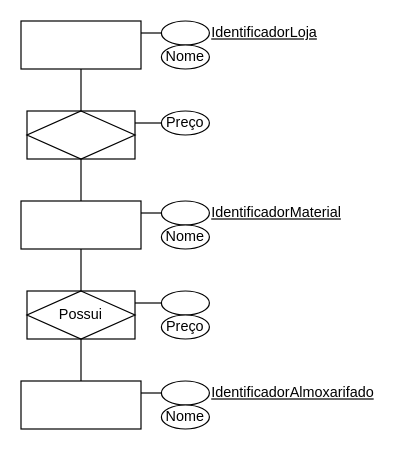
Image size: 395x450. Some labels were removed from this diagram. The centre of each missing label's shape, as x and y in pixels:
Almoxarifado: pixel 80 404
Loja: pixel 80 44
Material: pixel 80 224
Quantidade: pixel 184 302
Vende: pixel 80 134
